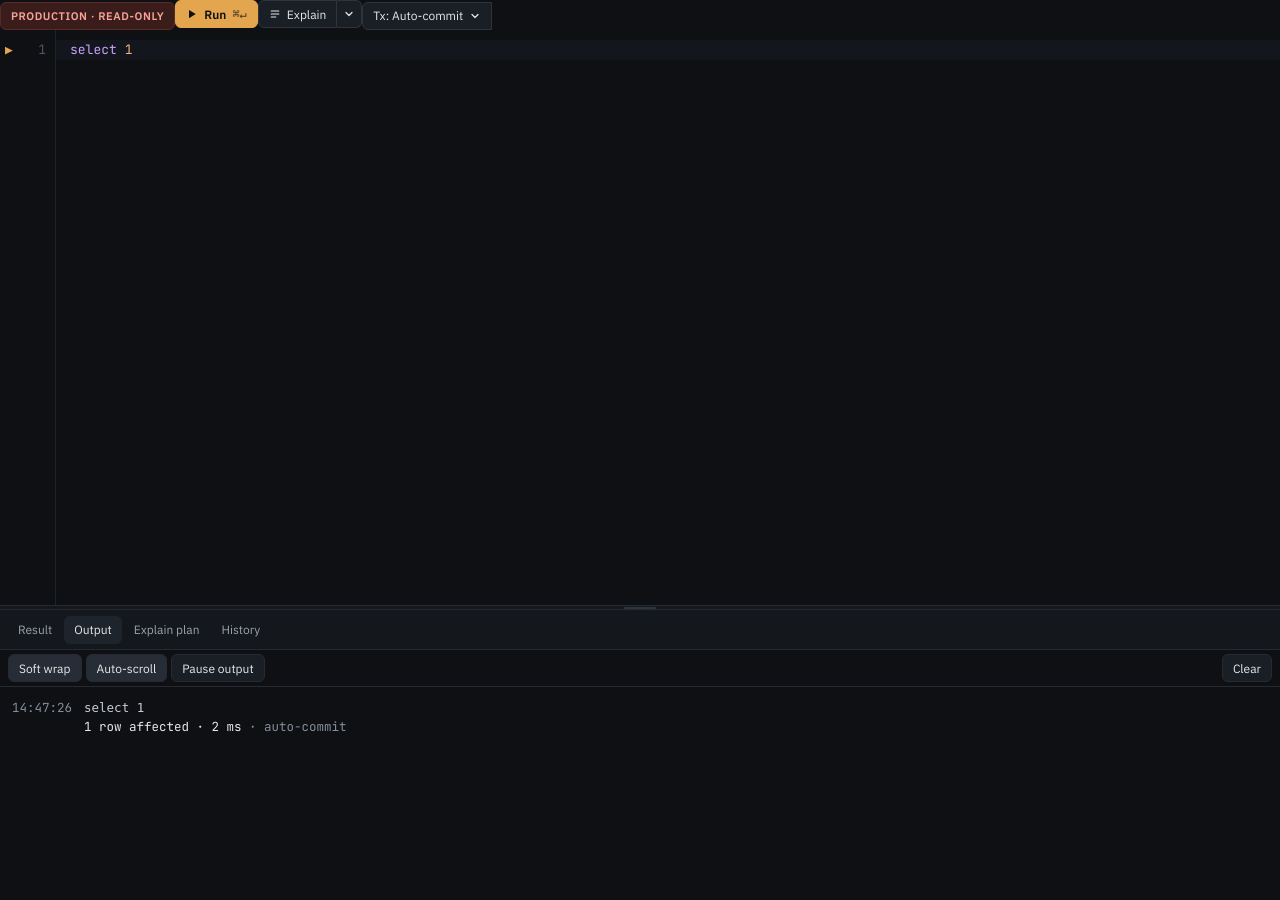
Test: read-only sessions › stays read-only when the switch is cancelled
Step 1. Click the button "PRODUCTION · READ-ONLY" → (88, 16), box [0,2,175,30]
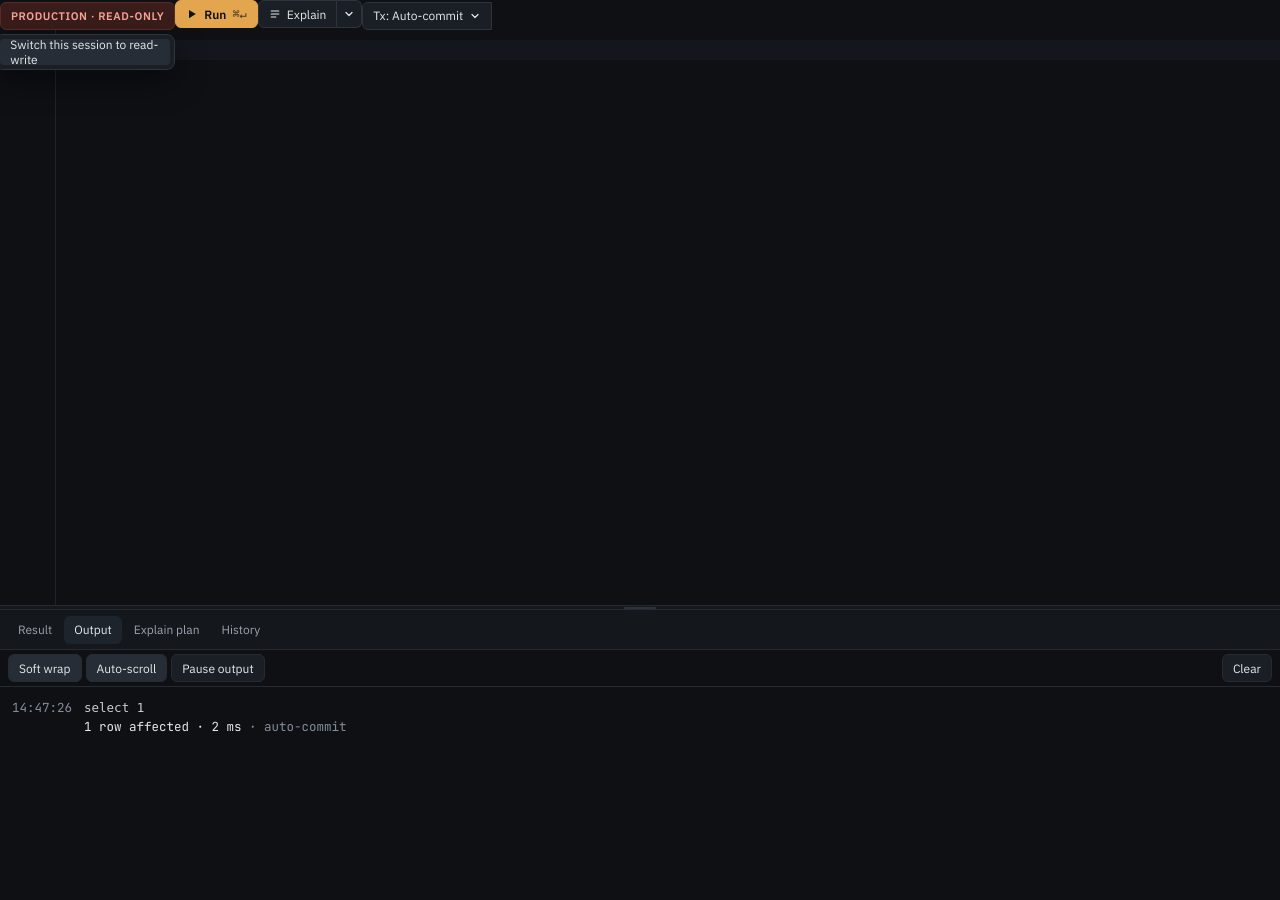
Step 2. Click the menu item "Switch this session to read-write" → (85, 52), box [0,39,170,65]
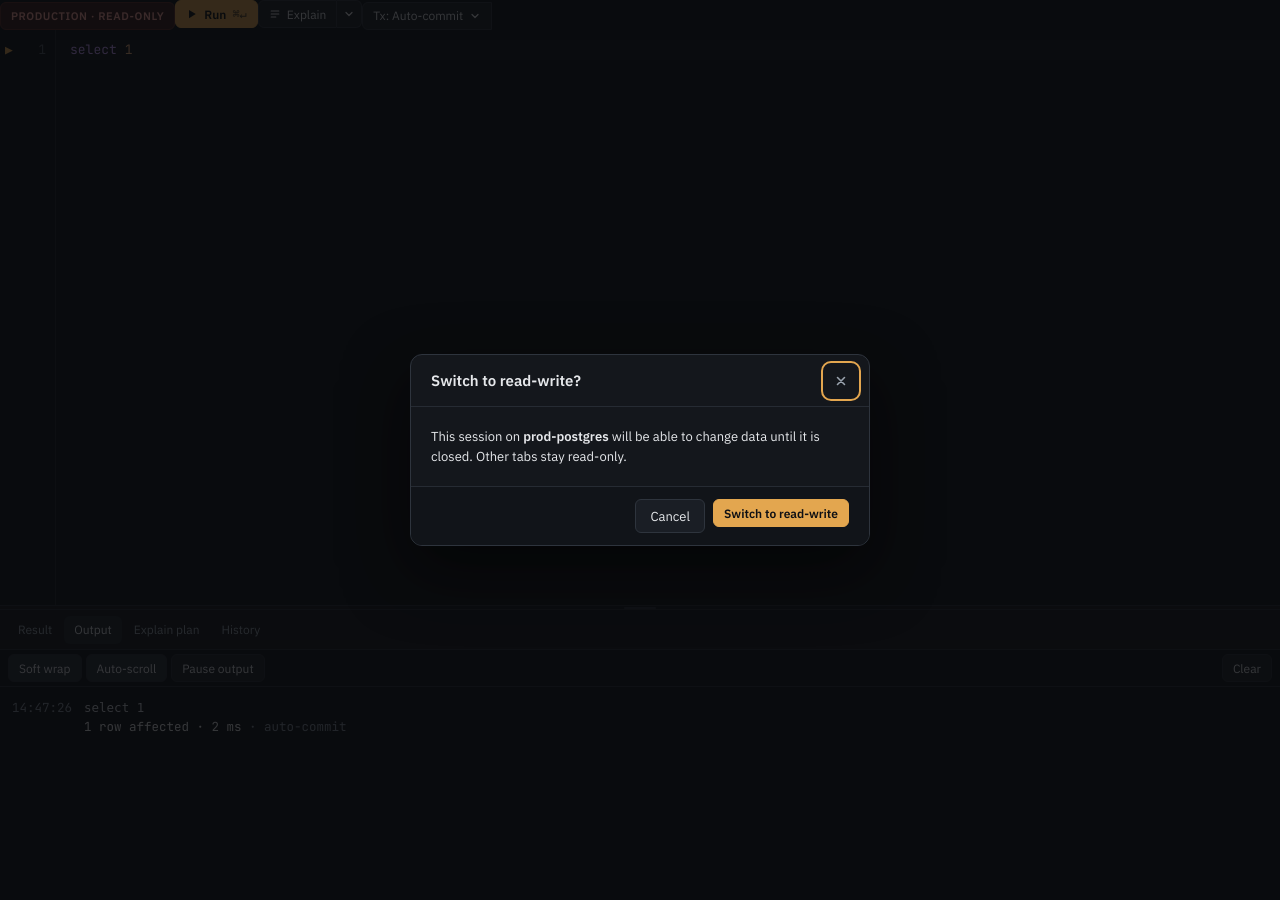
Step 3. Click the button "Cancel" → (670, 516), box [636,499,705,533]
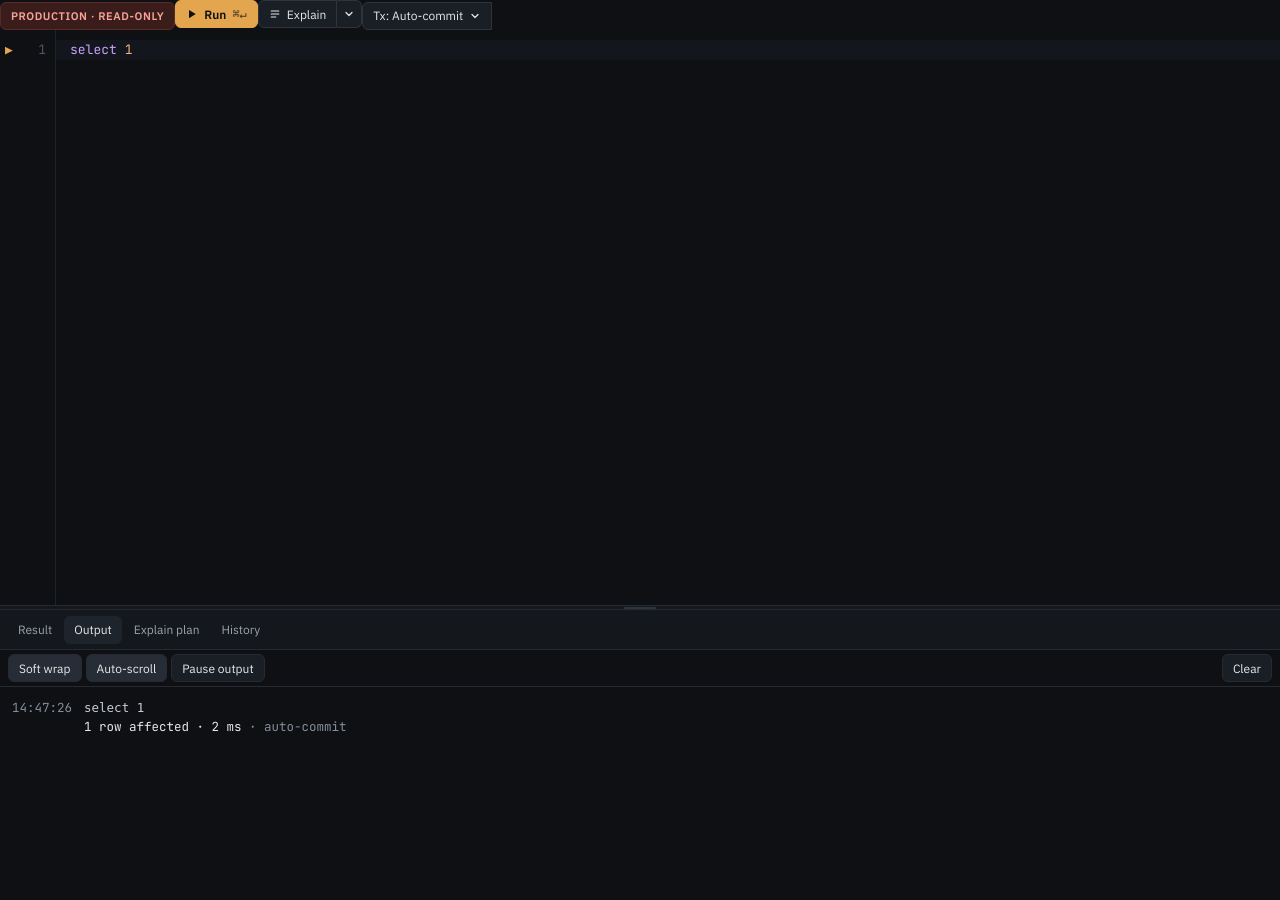
Expected: the button "PRODUCTION · READ-ONLY" is shown, [0,2,175,30]
Result: the dialog is gone
